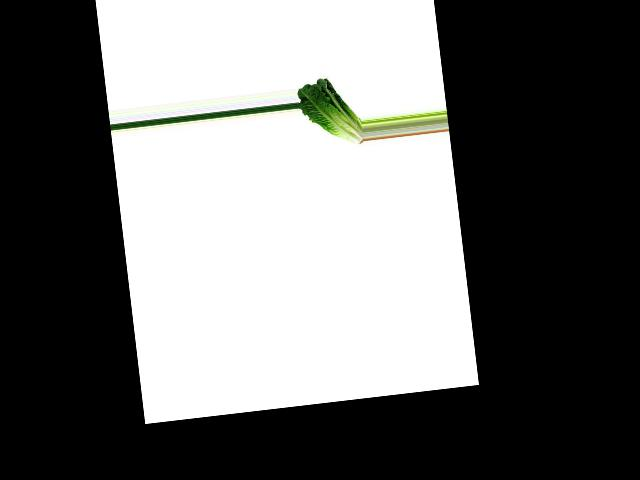lettuce: (296, 73, 364, 151)
